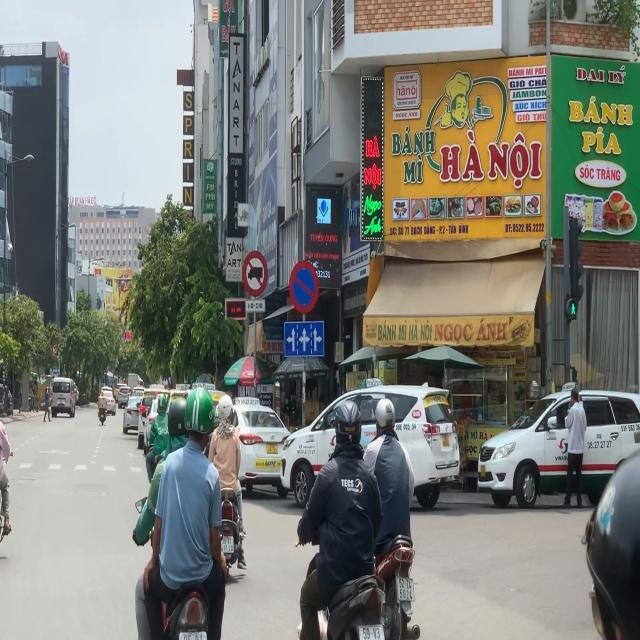bien_cam: (289, 260, 319, 314), (242, 250, 268, 297)
